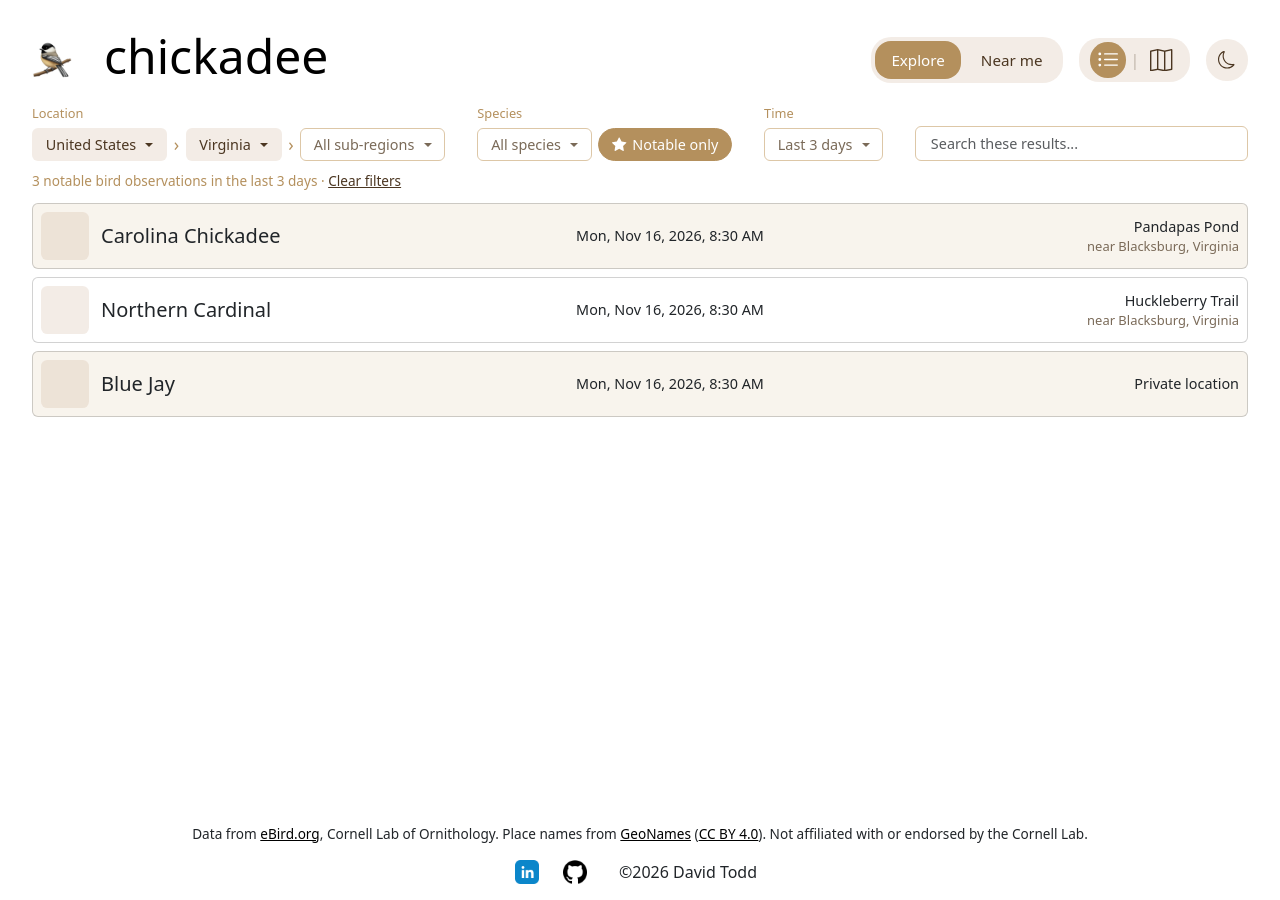
Explore page › picking a species turns off "Notable only", and turning it on clears the species
Expected: the text "Blue Jay" is shown, x1=101 y1=370 x2=175 y2=397
Click the button "All species": (535, 145) x1=477 y1=128 x2=592 y2=161
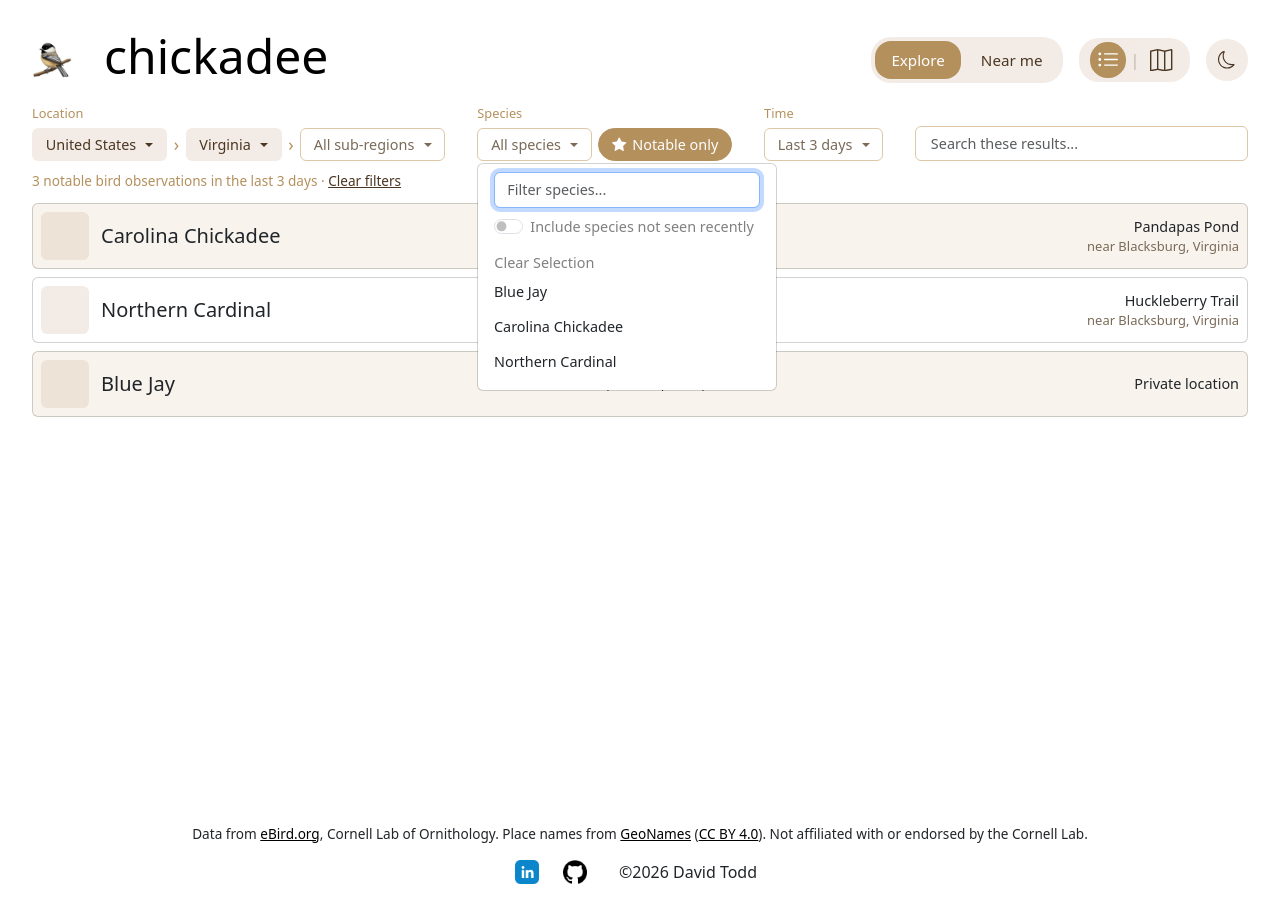
Click the button "Northern Cardinal": (556, 362) x1=494 y1=352 x2=617 y2=371
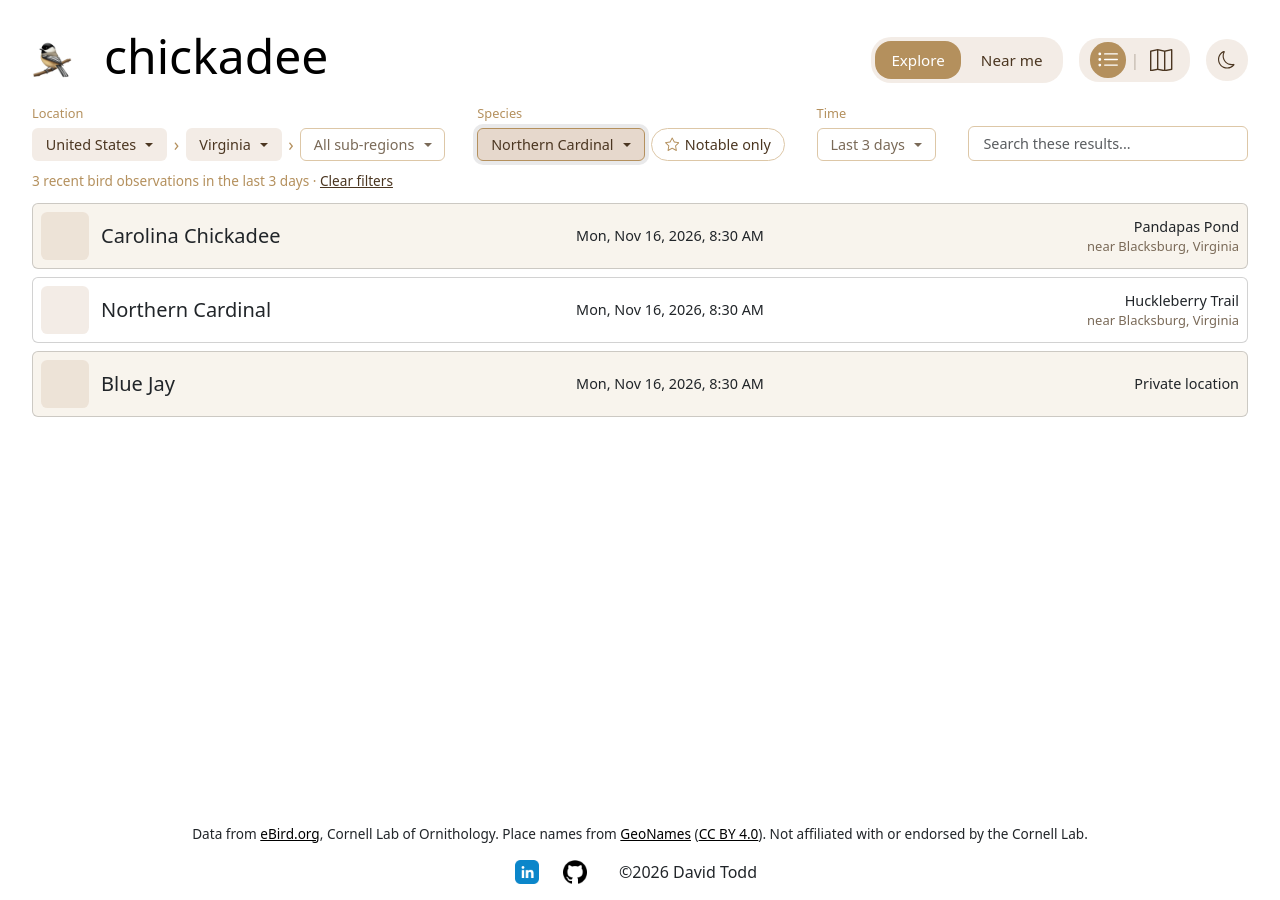
Now the button "Notable only" is not pressed
Click the button "Notable only": (718, 145) x1=651 y1=128 x2=785 y2=161
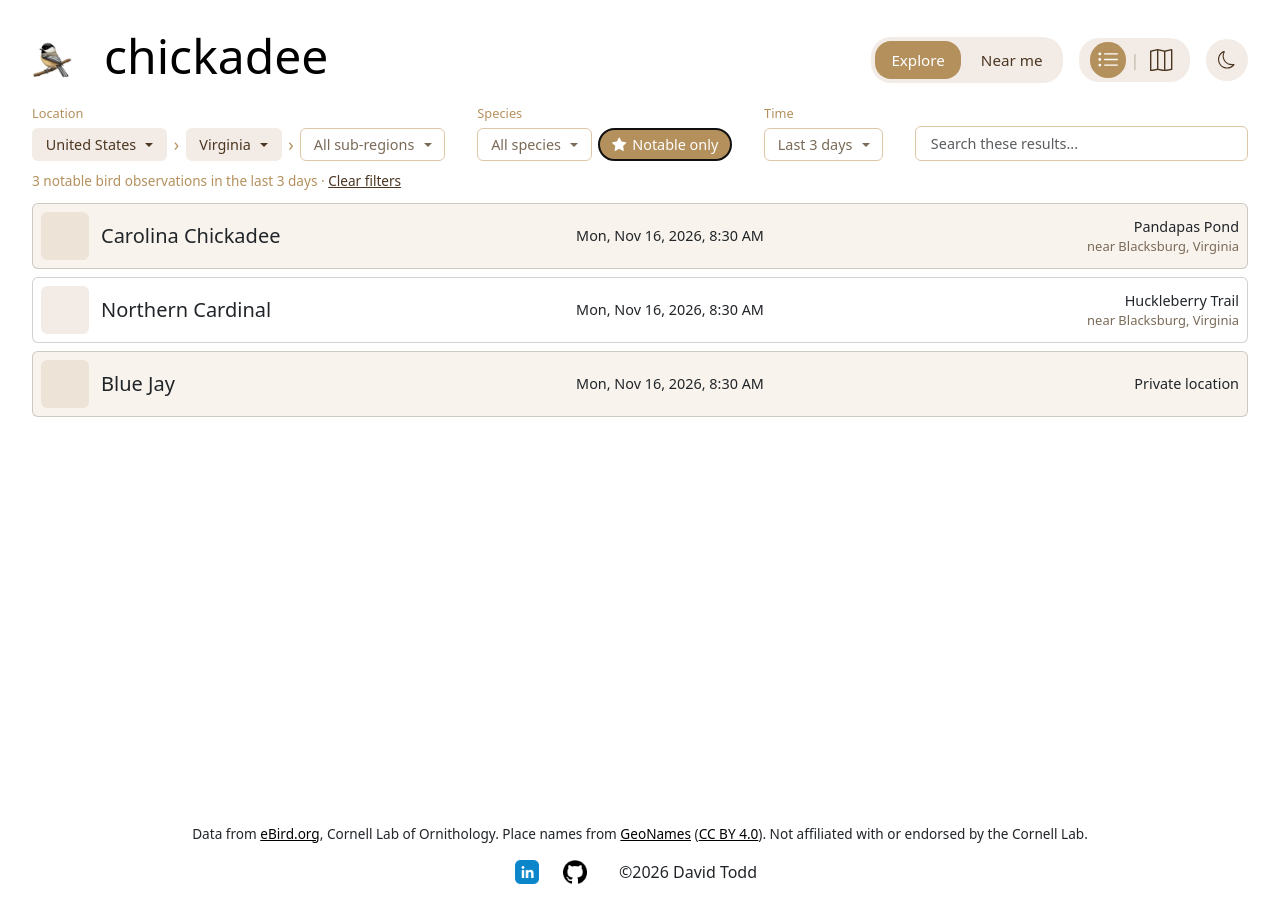
Now the button "All species" is shown, box x1=477 y1=128 x2=592 y2=161
